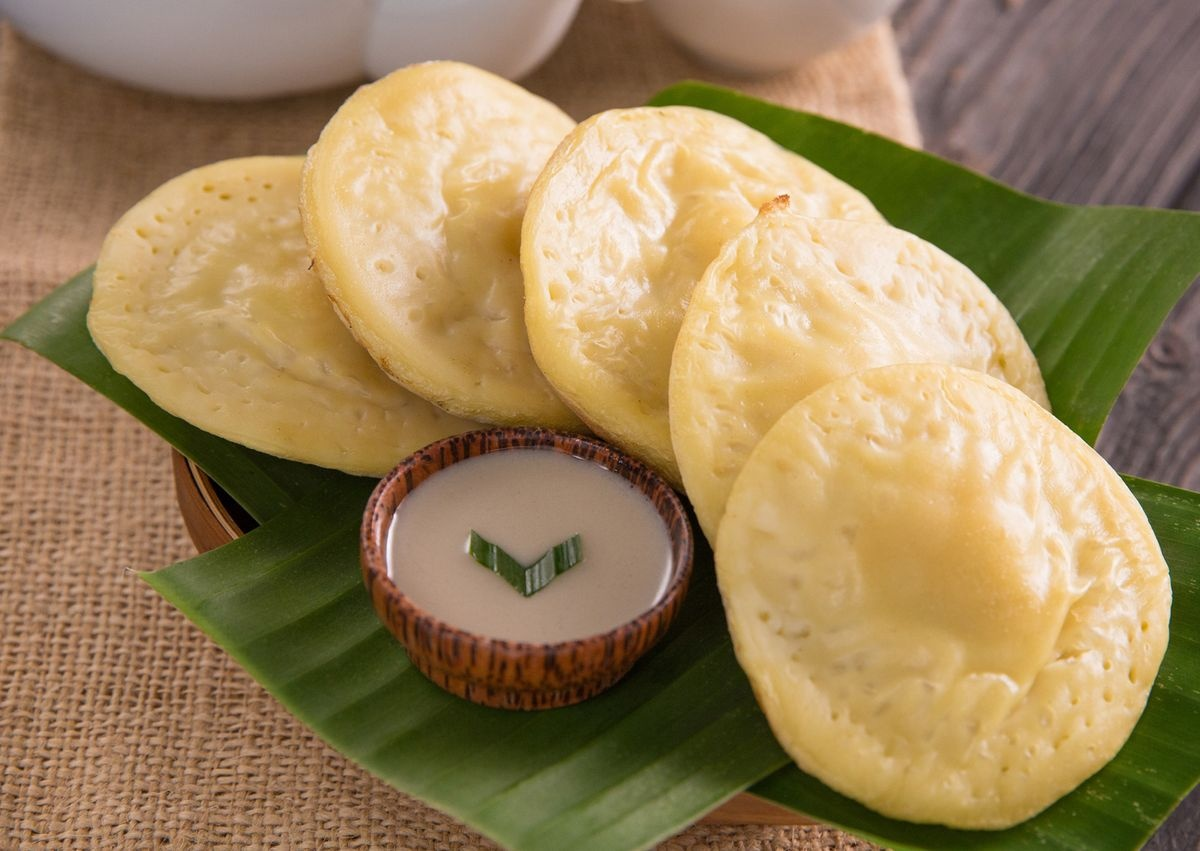srabi: (704, 370, 1192, 827)
